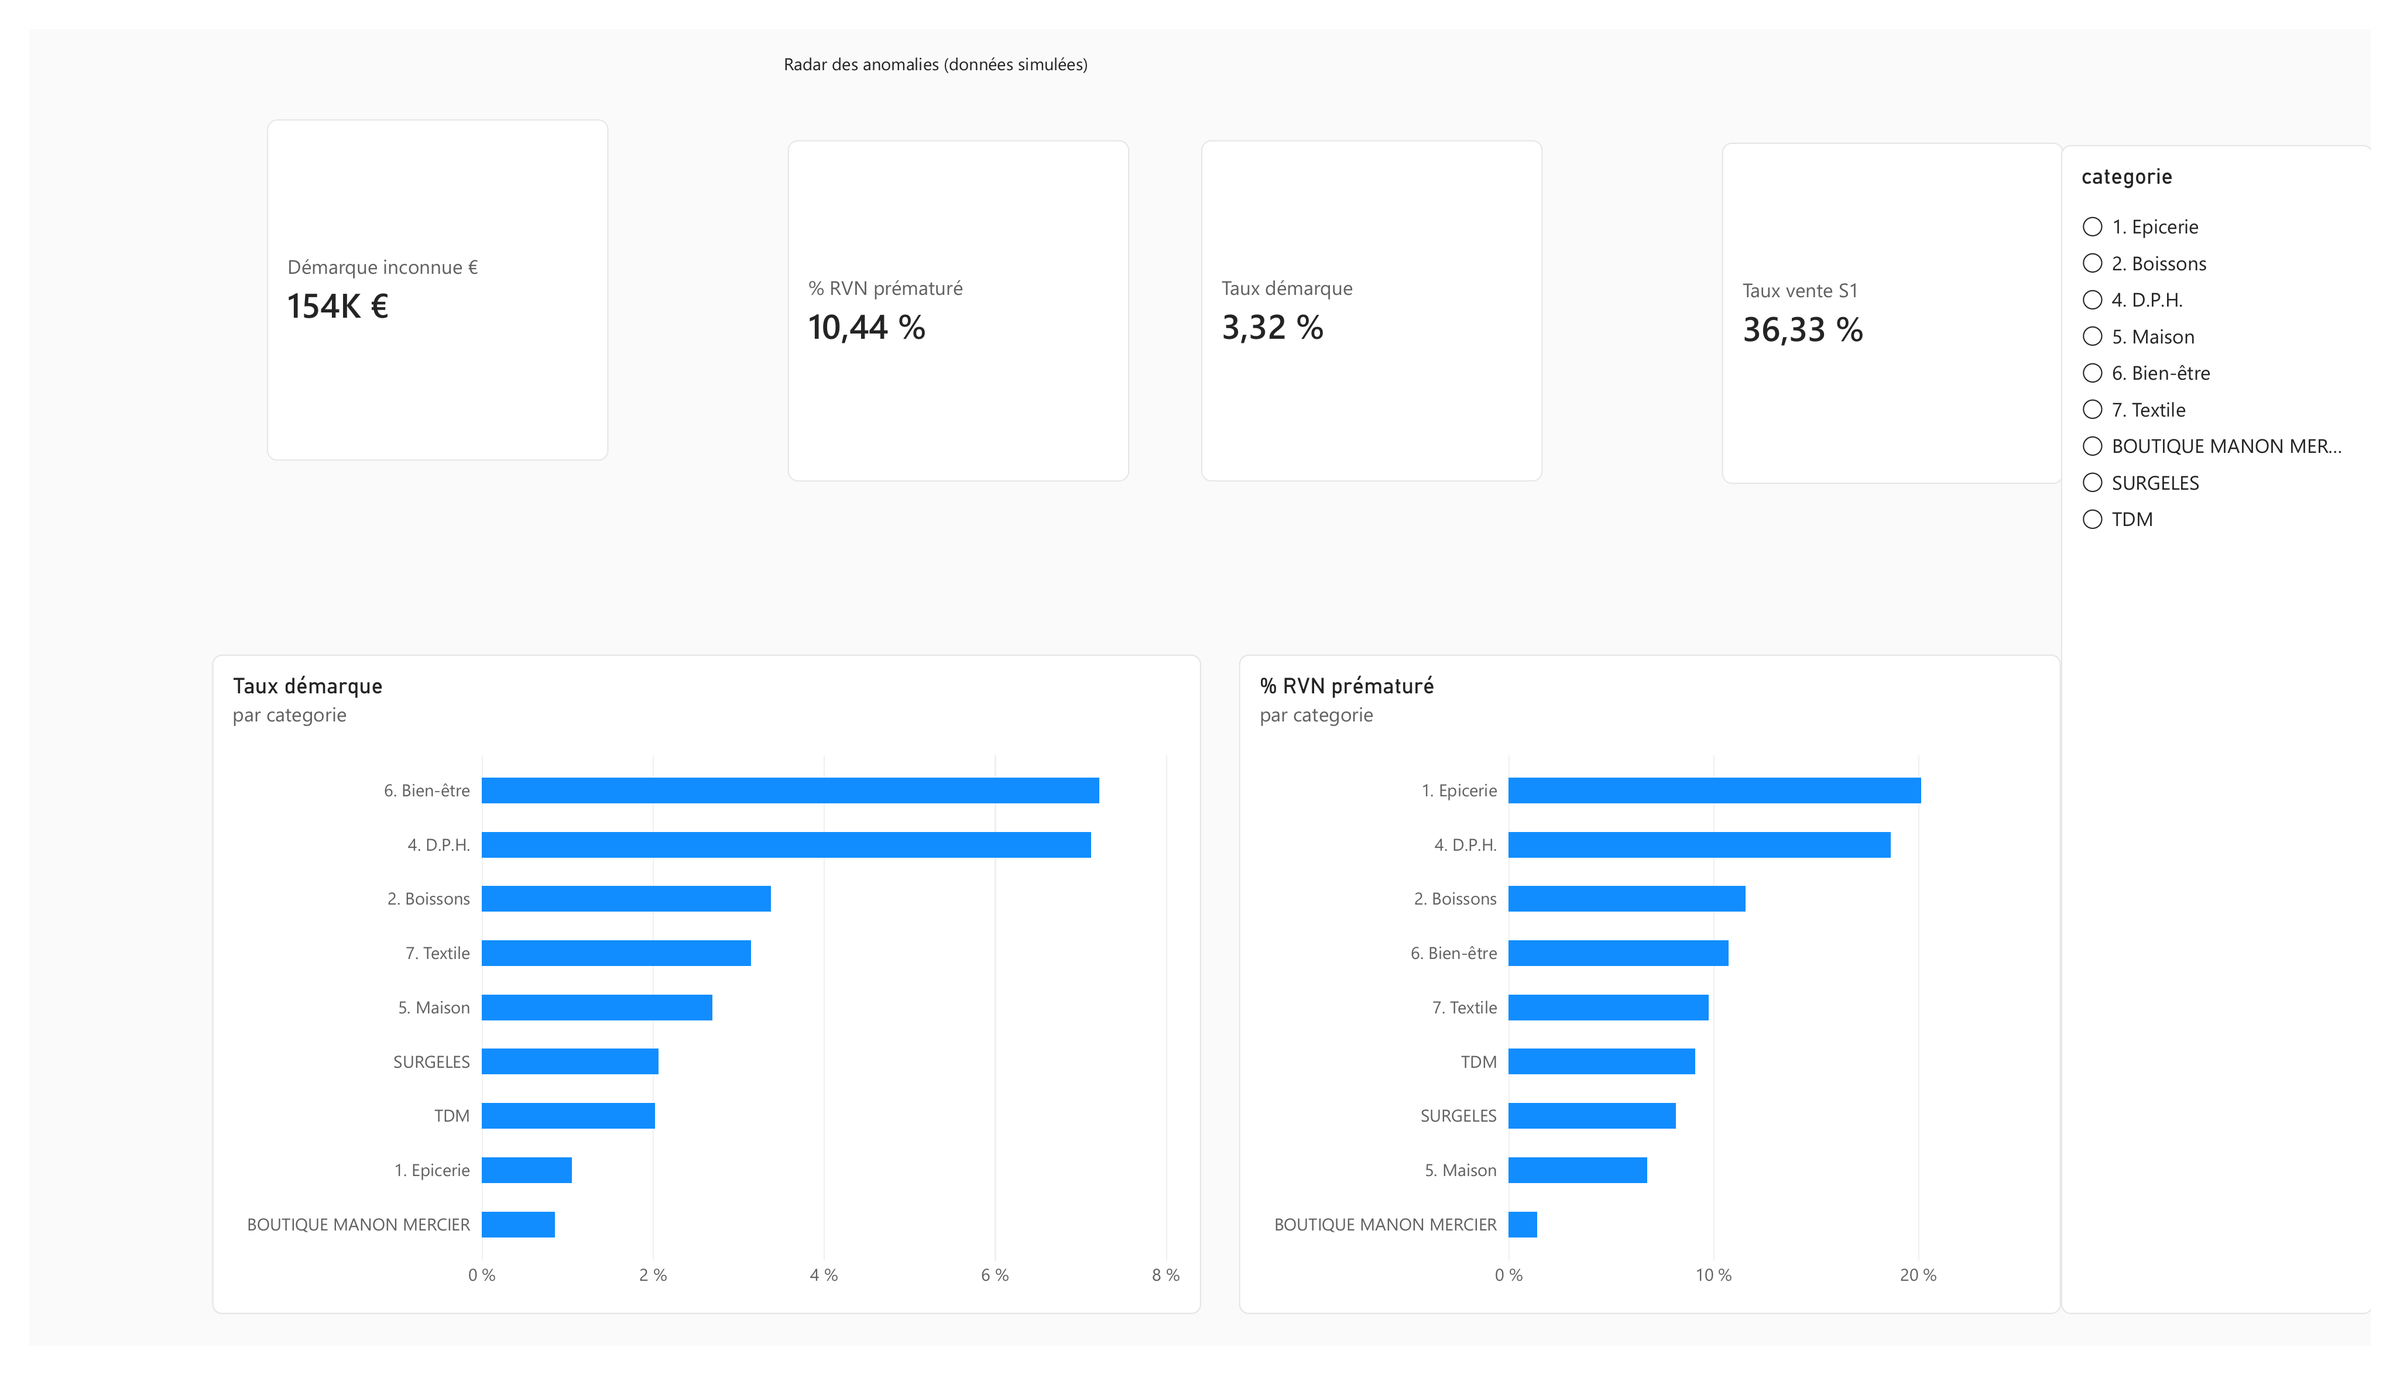

This screenshot's page, from the dashboard's own definition file:
{"tool":"powerbi","page":{"name":"Radar des anomalies","canvas":[1920,1080],"ordinal":0},"visuals":[{"type":"cardVisual","fields":{"Data":["_Mesures.Démarque inconnue €"]},"box":[195.5,73.9,280,280],"z":1},{"type":"cardVisual","fields":{"Data":["_Mesures.Taux démarque"]},"box":[960.8,90.6,280,280],"z":2},{"type":"cardVisual","fields":{"Data":["_Mesures.% RVN prématuré"]},"box":[622.3,90.6,280,280],"z":3},{"type":"cardVisual","fields":{"Data":["_Mesures.Taux vente S1"]},"box":[1387.5,93,280,280],"z":5},{"type":"textbox","box":[615.1,19.1,286.1,71.5],"z":6},{"type":"clusteredBarChart","fields":{"Category":["public categories.categorie"],"Y":["_Mesures.Taux démarque"]},"box":[150.2,512.6,810.6,541.2],"z":7},{"type":"clusteredBarChart","fields":{"Category":["public categories.categorie"],"Y":["_Mesures.% RVN prématuré"]},"box":[991.8,512.6,674.7,541.2],"z":8},{"type":"listSlicer","fields":{"Values":["public categories.categorie"]},"box":[1666.5,95.4,255.1,958.4],"z":9}]}

Visuals, with their boxes in screenshot pixels (x1, y1, x2, y2), scaled from the page's 1920x1080 canvas onto the 2400x1375 screenshot:
cardVisual - _Mesures.Démarque inconnue €: 244, 94, 594, 451
cardVisual - _Mesures.Taux démarque: 1201, 115, 1551, 472
cardVisual - _Mesures.% RVN prématuré: 778, 115, 1128, 472
cardVisual - _Mesures.Taux vente S1: 1734, 118, 2084, 475
textbox: 769, 24, 1126, 115
clusteredBarChart - public categories.categorie x _Mesures.Taux démarque: 188, 653, 1201, 1342
clusteredBarChart - public categories.categorie x _Mesures.% RVN prématuré: 1240, 653, 2083, 1342
listSlicer - public categories.categorie: 2083, 121, 2399, 1342
